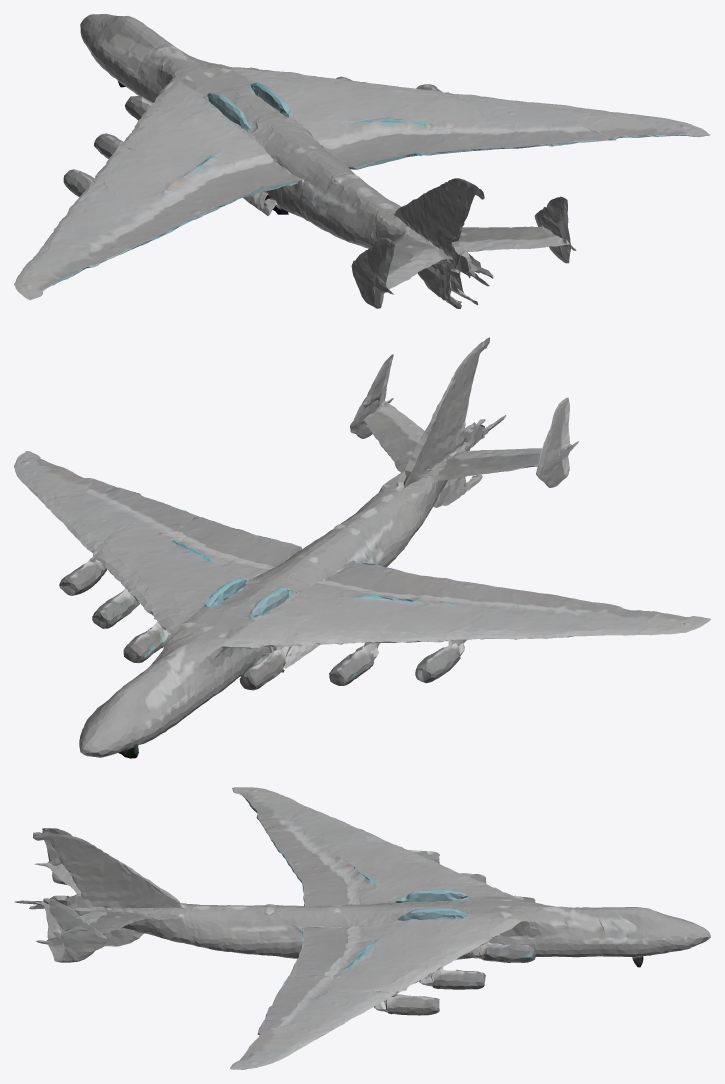
3 renders of one model, top to bottom at view 1: azimuth 30°, elevation 25°; view 2: azimuth 150°, elevation 25°; view 3: azimuth 270°, elevation 25°, orthographic. The views are drawn at different scales.
Parts seen in each view (by area): view 1: defaultobject; view 2: defaultobject; view 3: defaultobject.
Part boxes in pixels (left/top/right/bottom): defaultobject: left=14, top=14, right=710, bottom=308; defaultobject: left=14, top=337, right=710, bottom=758; defaultobject: left=14, top=787, right=710, bottom=1069.
Size of the model in its own units: 0.906 by 0.1993 by 0.9459.
